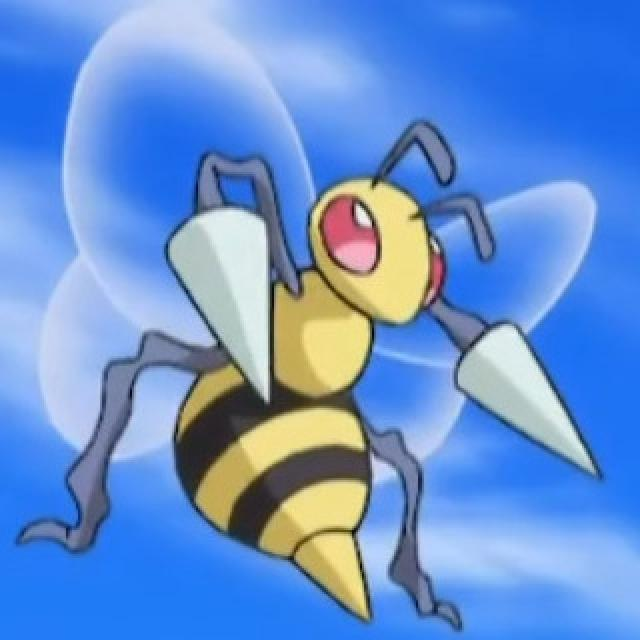Beedrill: (154, 138, 540, 618)
